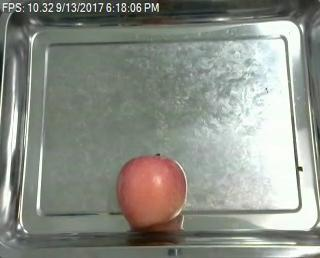apple: (116, 153, 188, 229)
